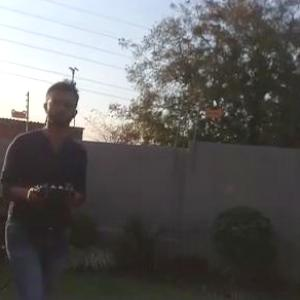follow: (0, 73, 93, 299)
